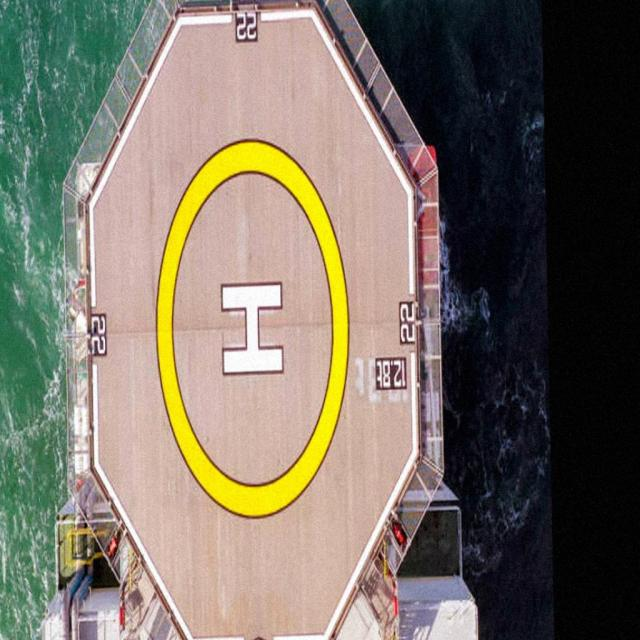helipad: (149, 132, 352, 522)
